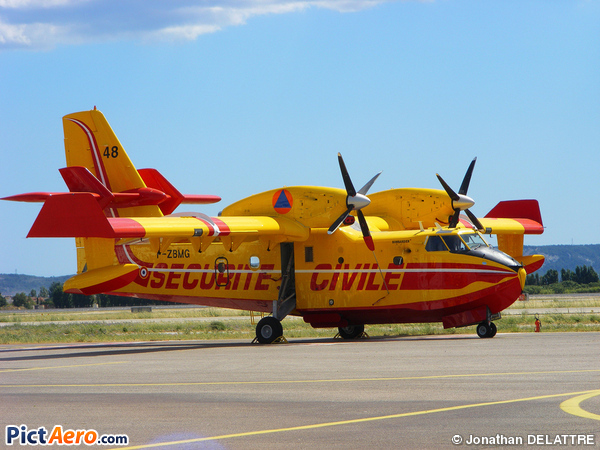Aeronef_de_service: (1, 98, 570, 353)
